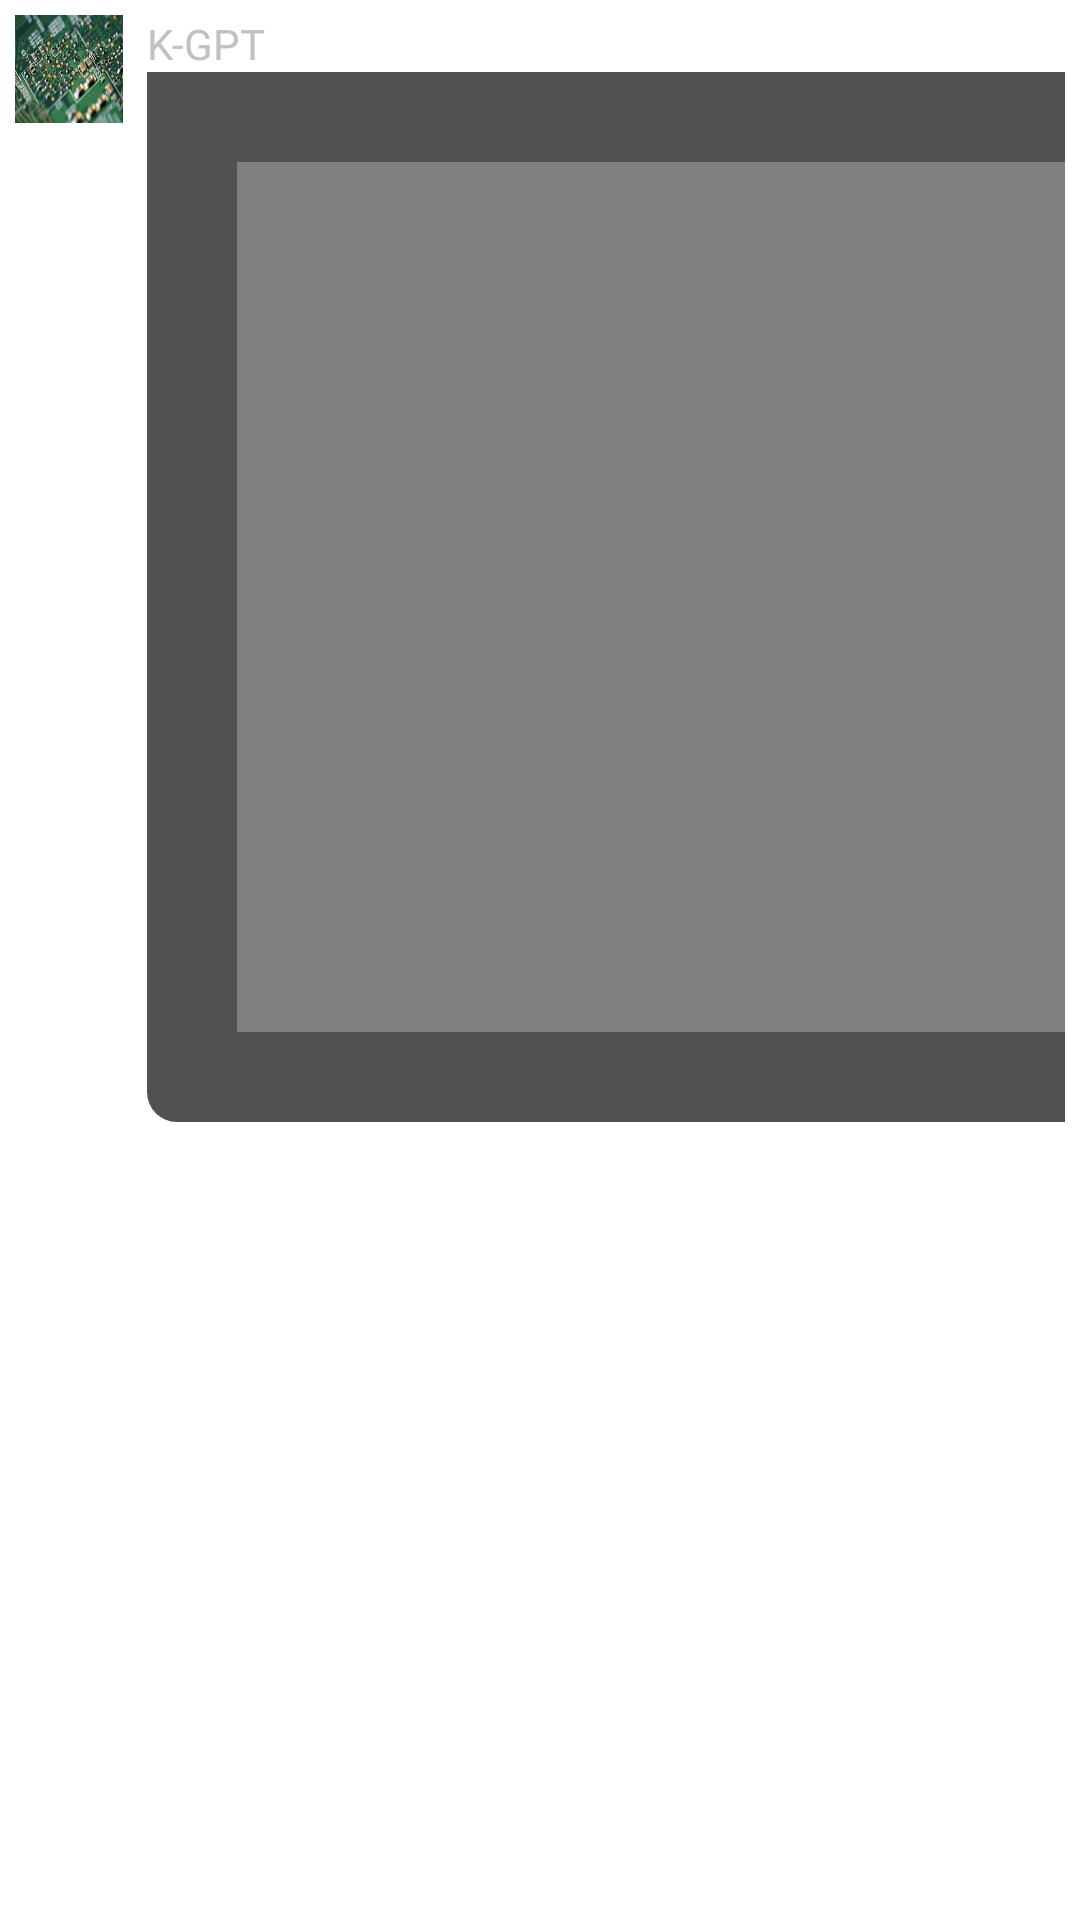

Screen size 1080w x 1920h. Icon name, then its center in pixels as [x,y]:
circuit: [69,69]
